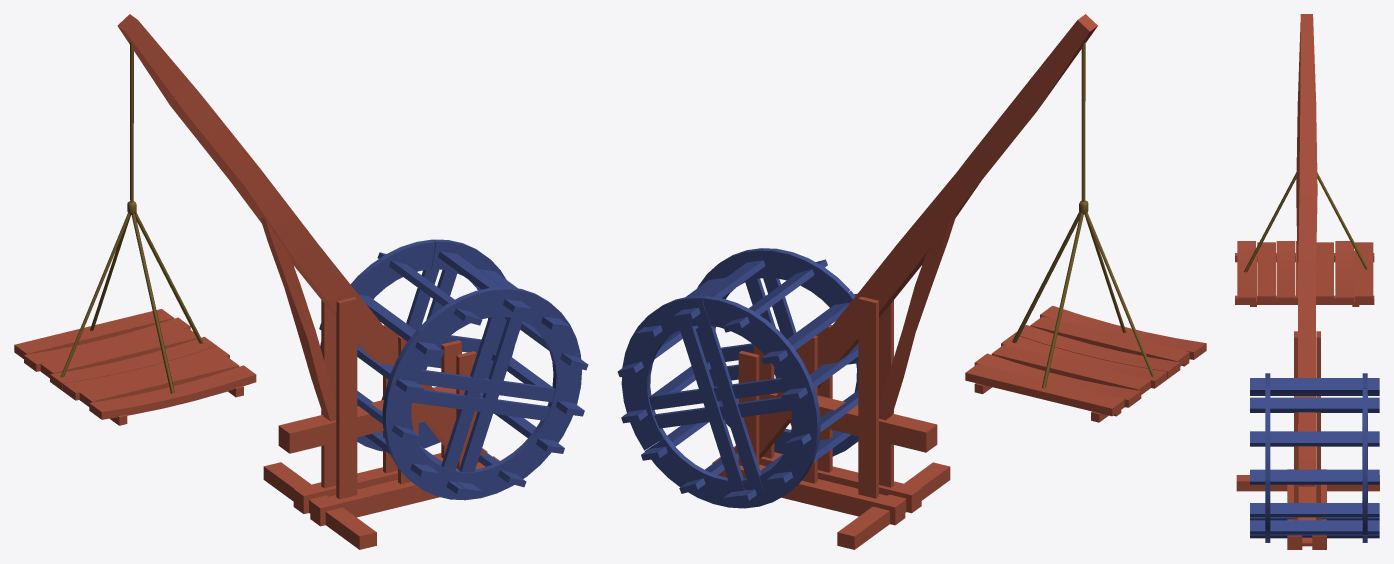
The model's file is SM_crane_01.fbx.
The picture shows the model from 3 angles, left to right: view 1: azimuth 30°, elevation 25°; view 2: azimuth 150°, elevation 25°; view 3: azimuth 270°, elevation 25°; orthographic projection. The views are drawn at different scales.
Visible parts, largest first — view 1: Box468; view 2: Box468; view 3: Box468.
Part boxes in pixels (<box>): Box468: <box>14,14,588,549</box>; Box468: <box>617,14,1206,549</box>; Box468: <box>1235,14,1379,549</box>.
Size of the model in its own units: 273 by 285 by 91.85.
